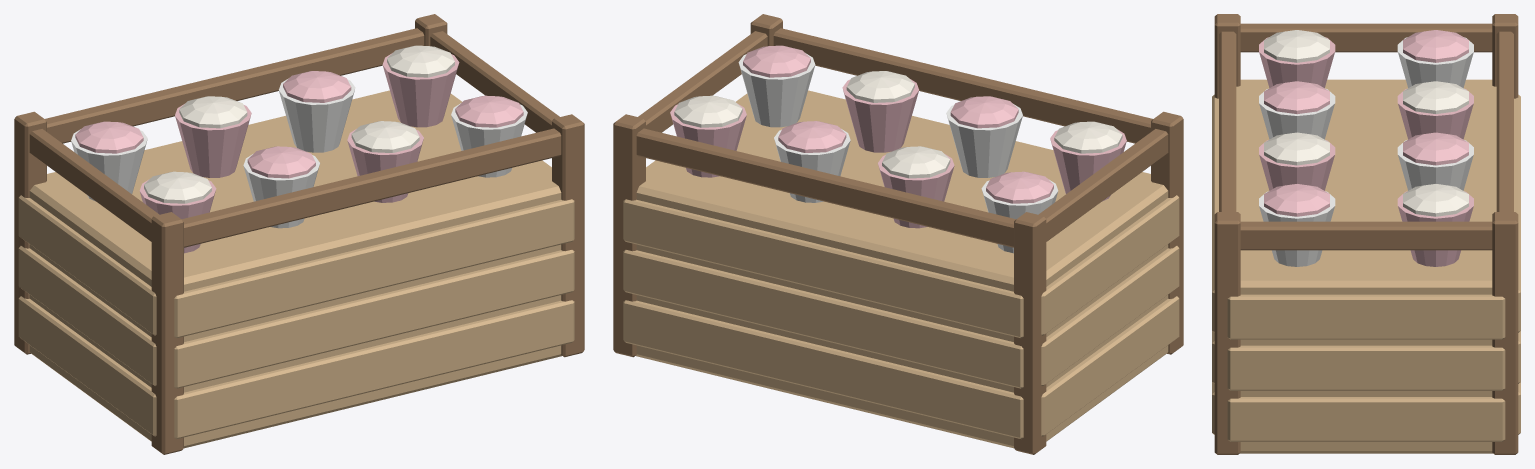
File: wedding-and-chapel-kit-confetti-cone-stand-e95d2472__39408.glb
The picture shows the model from 3 angles, left to right: view 1: azimuth 30°, elevation 25°; view 2: azimuth 150°, elevation 25°; view 3: azimuth 270°, elevation 25°; orthographic projection.
Parts seen in each view (by area): view 1: confetti-cone-stand; view 2: confetti-cone-stand; view 3: confetti-cone-stand.
Boxes of the visible parts, x1=… form: confetti-cone-stand: x1=14, y1=14, x2=584, y2=454; confetti-cone-stand: x1=613, y1=14, x2=1183, y2=454; confetti-cone-stand: x1=1212, y1=14, x2=1520, y2=454.
Bounding box in the file's own units: 0.576 × 0.3047 × 0.356.
